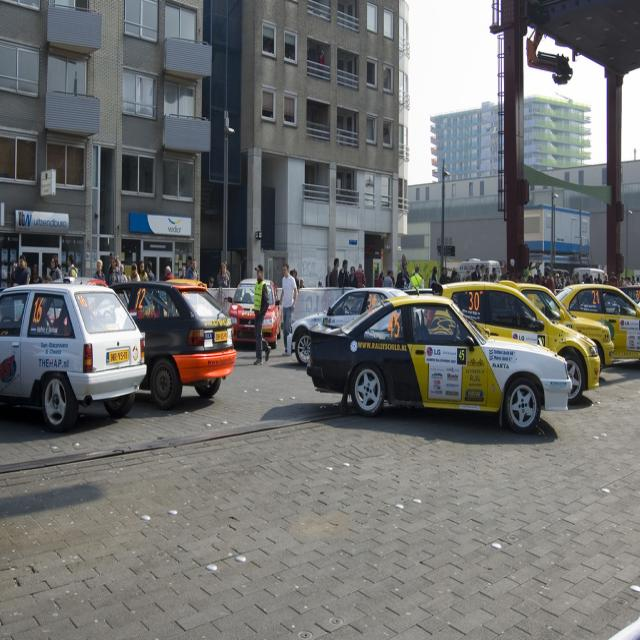car: (304, 291, 574, 414), (547, 281, 639, 370)
